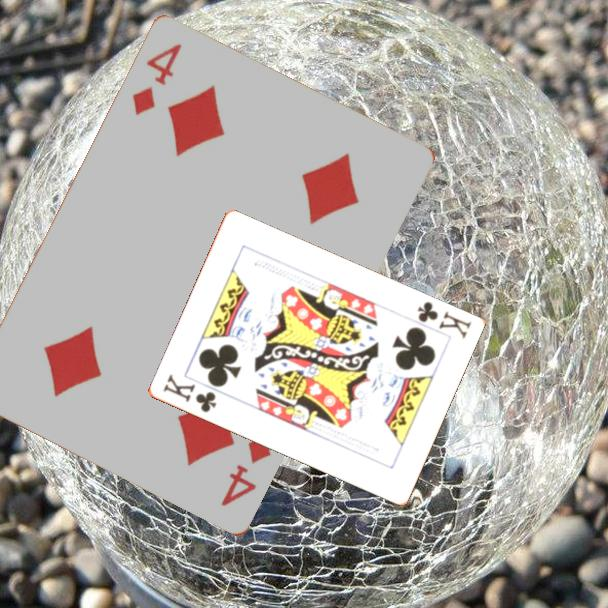c13: (159, 370, 219, 416), (413, 298, 474, 342)
d04: (217, 431, 274, 511), (129, 41, 185, 119)
